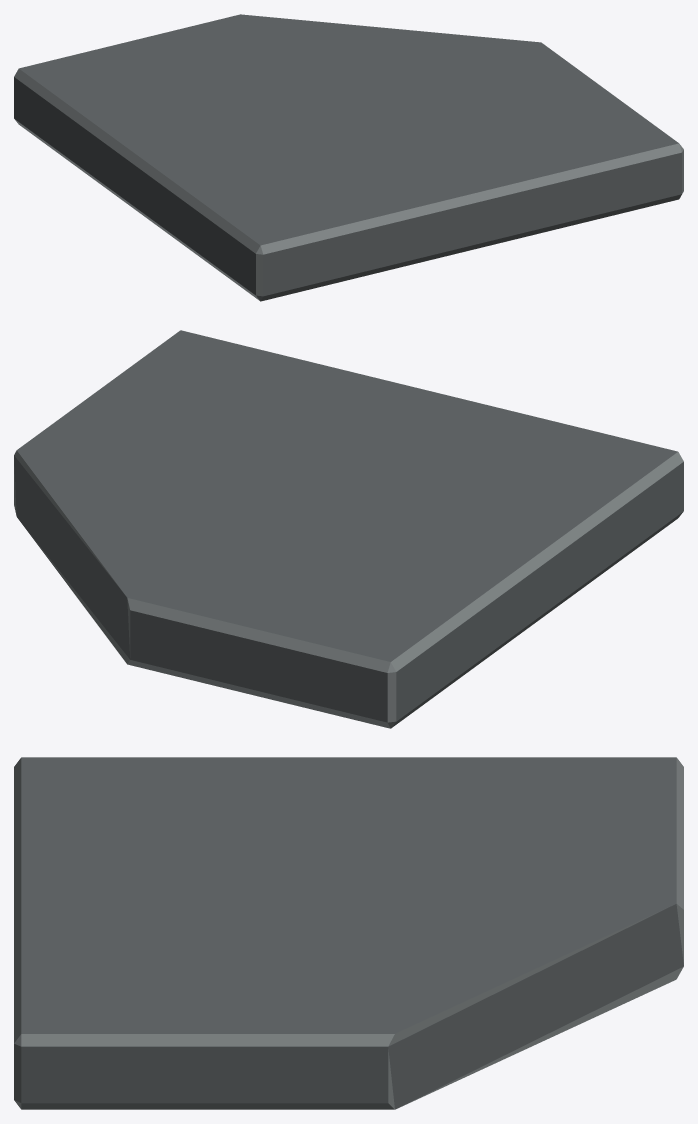
File: MCastle_HardStone_Floor_03.FBX
3 views of the same model, one above another, from view 1: azimuth 30°, elevation 25°; view 2: azimuth 150°, elevation 25°; view 3: azimuth 270°, elevation 25° (orthographic). The views are drawn at different scales.
Parts seen in each view (by area): view 1: MCastle_HardStone_Floor_03_LOD0; view 2: MCastle_HardStone_Floor_03_LOD0; view 3: MCastle_HardStone_Floor_03_LOD0.
Part boxes in pixels (box(x1,y1,x2,y2)): MCastle_HardStone_Floor_03_LOD0: box(14, 14, 683, 301); MCastle_HardStone_Floor_03_LOD0: box(14, 330, 683, 728); MCastle_HardStone_Floor_03_LOD0: box(14, 757, 683, 1109).
Size of what is drawn, in the model's own units: 4 by 0.5004 by 4.
